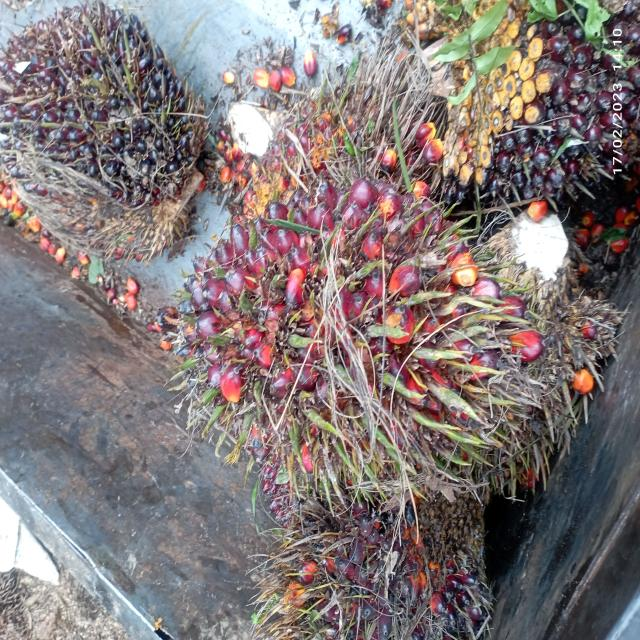fraksi 00: (8, 0, 229, 273), (403, 0, 640, 223)
fraksi 1: (148, 73, 548, 552)
